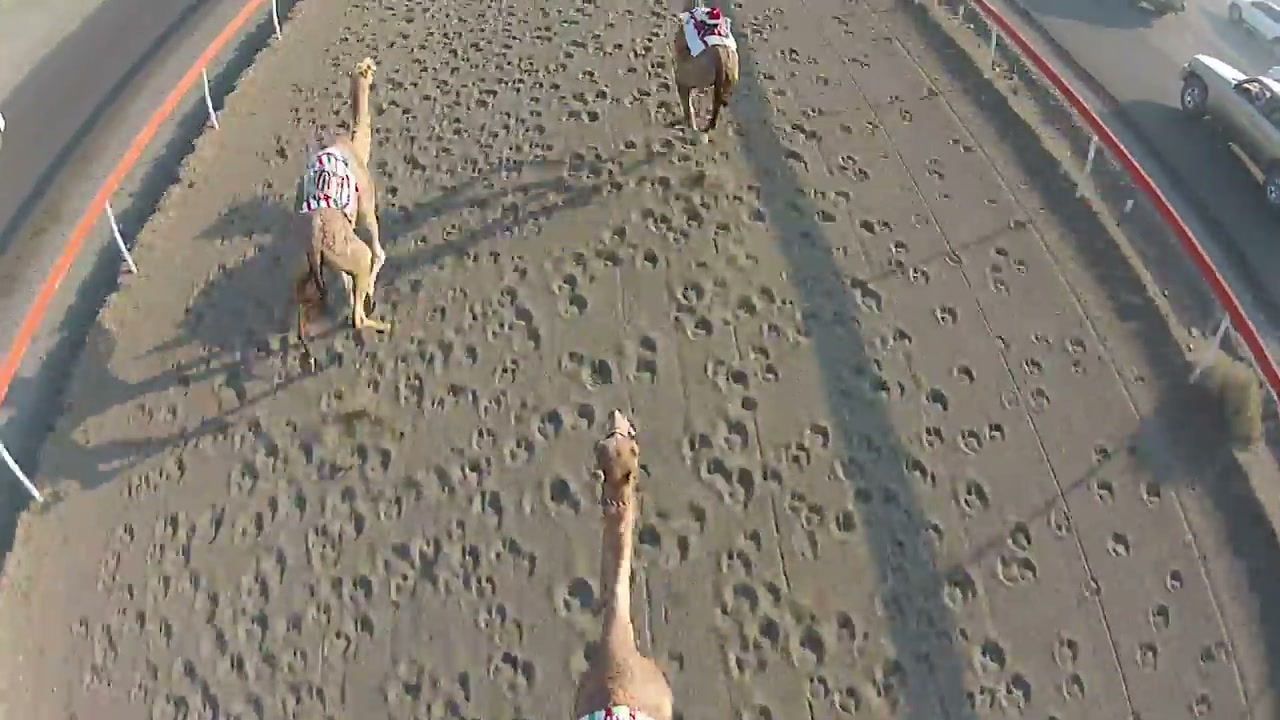animal_footprint: (0, 0, 1255, 719)
